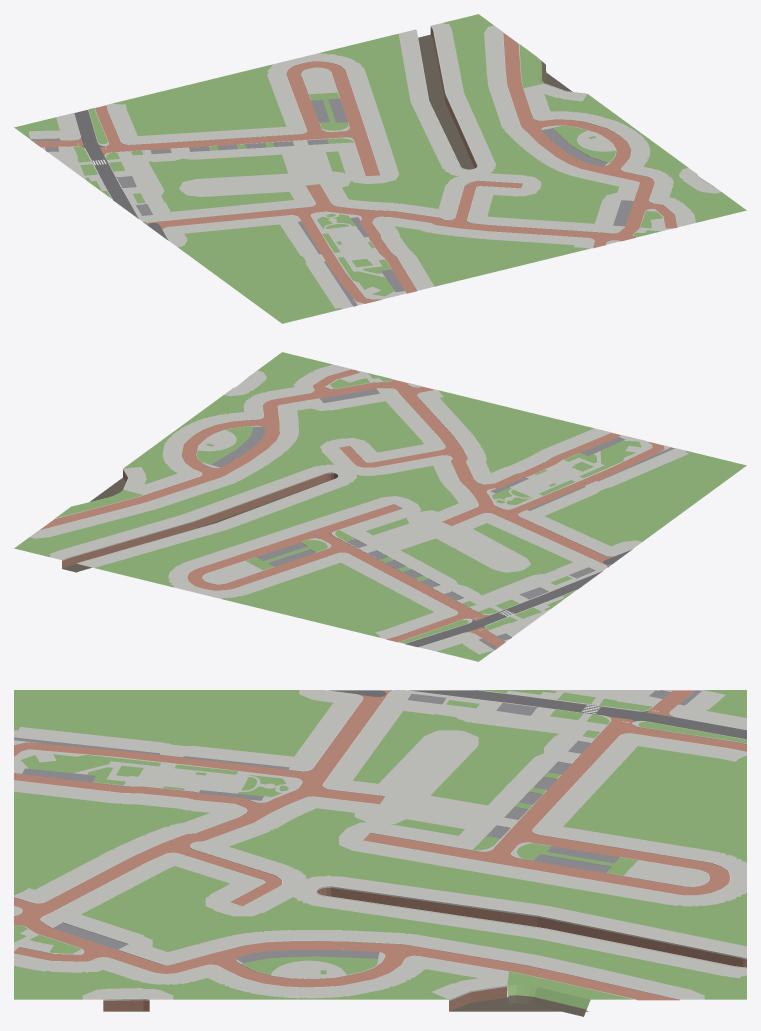
Rendered from ground_12_8.glb.
3 renders of one model, top to bottom at view 1: azimuth 30°, elevation 25°; view 2: azimuth 150°, elevation 25°; view 3: azimuth 270°, elevation 25°, orthographic. The views are drawn at different scales.
Parts seen in each view (by area): view 1: ground_12_8; view 2: ground_12_8; view 3: ground_12_8.
Part boxes in pixels (bbox=[...]): ground_12_8: bbox=[14, 14, 746, 323]; ground_12_8: bbox=[14, 352, 746, 661]; ground_12_8: bbox=[14, 690, 746, 1016].
Bounding box in the file's own units: 203 × 3.68 × 200.
